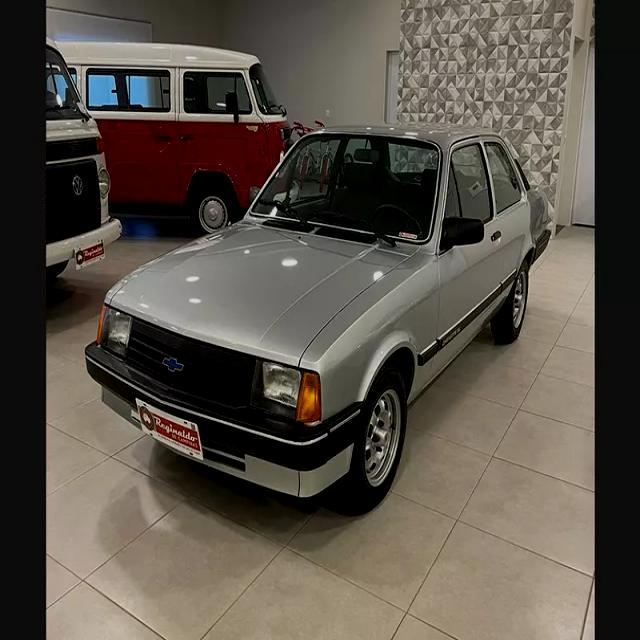car: (84, 127, 559, 521)
